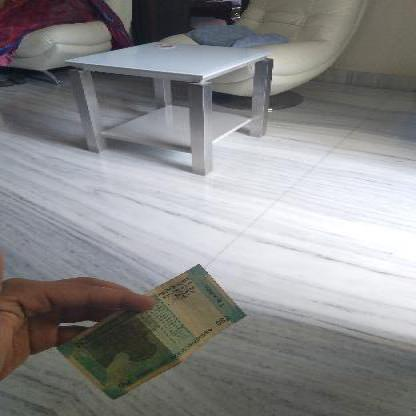New50Back: (56, 262, 248, 400)
